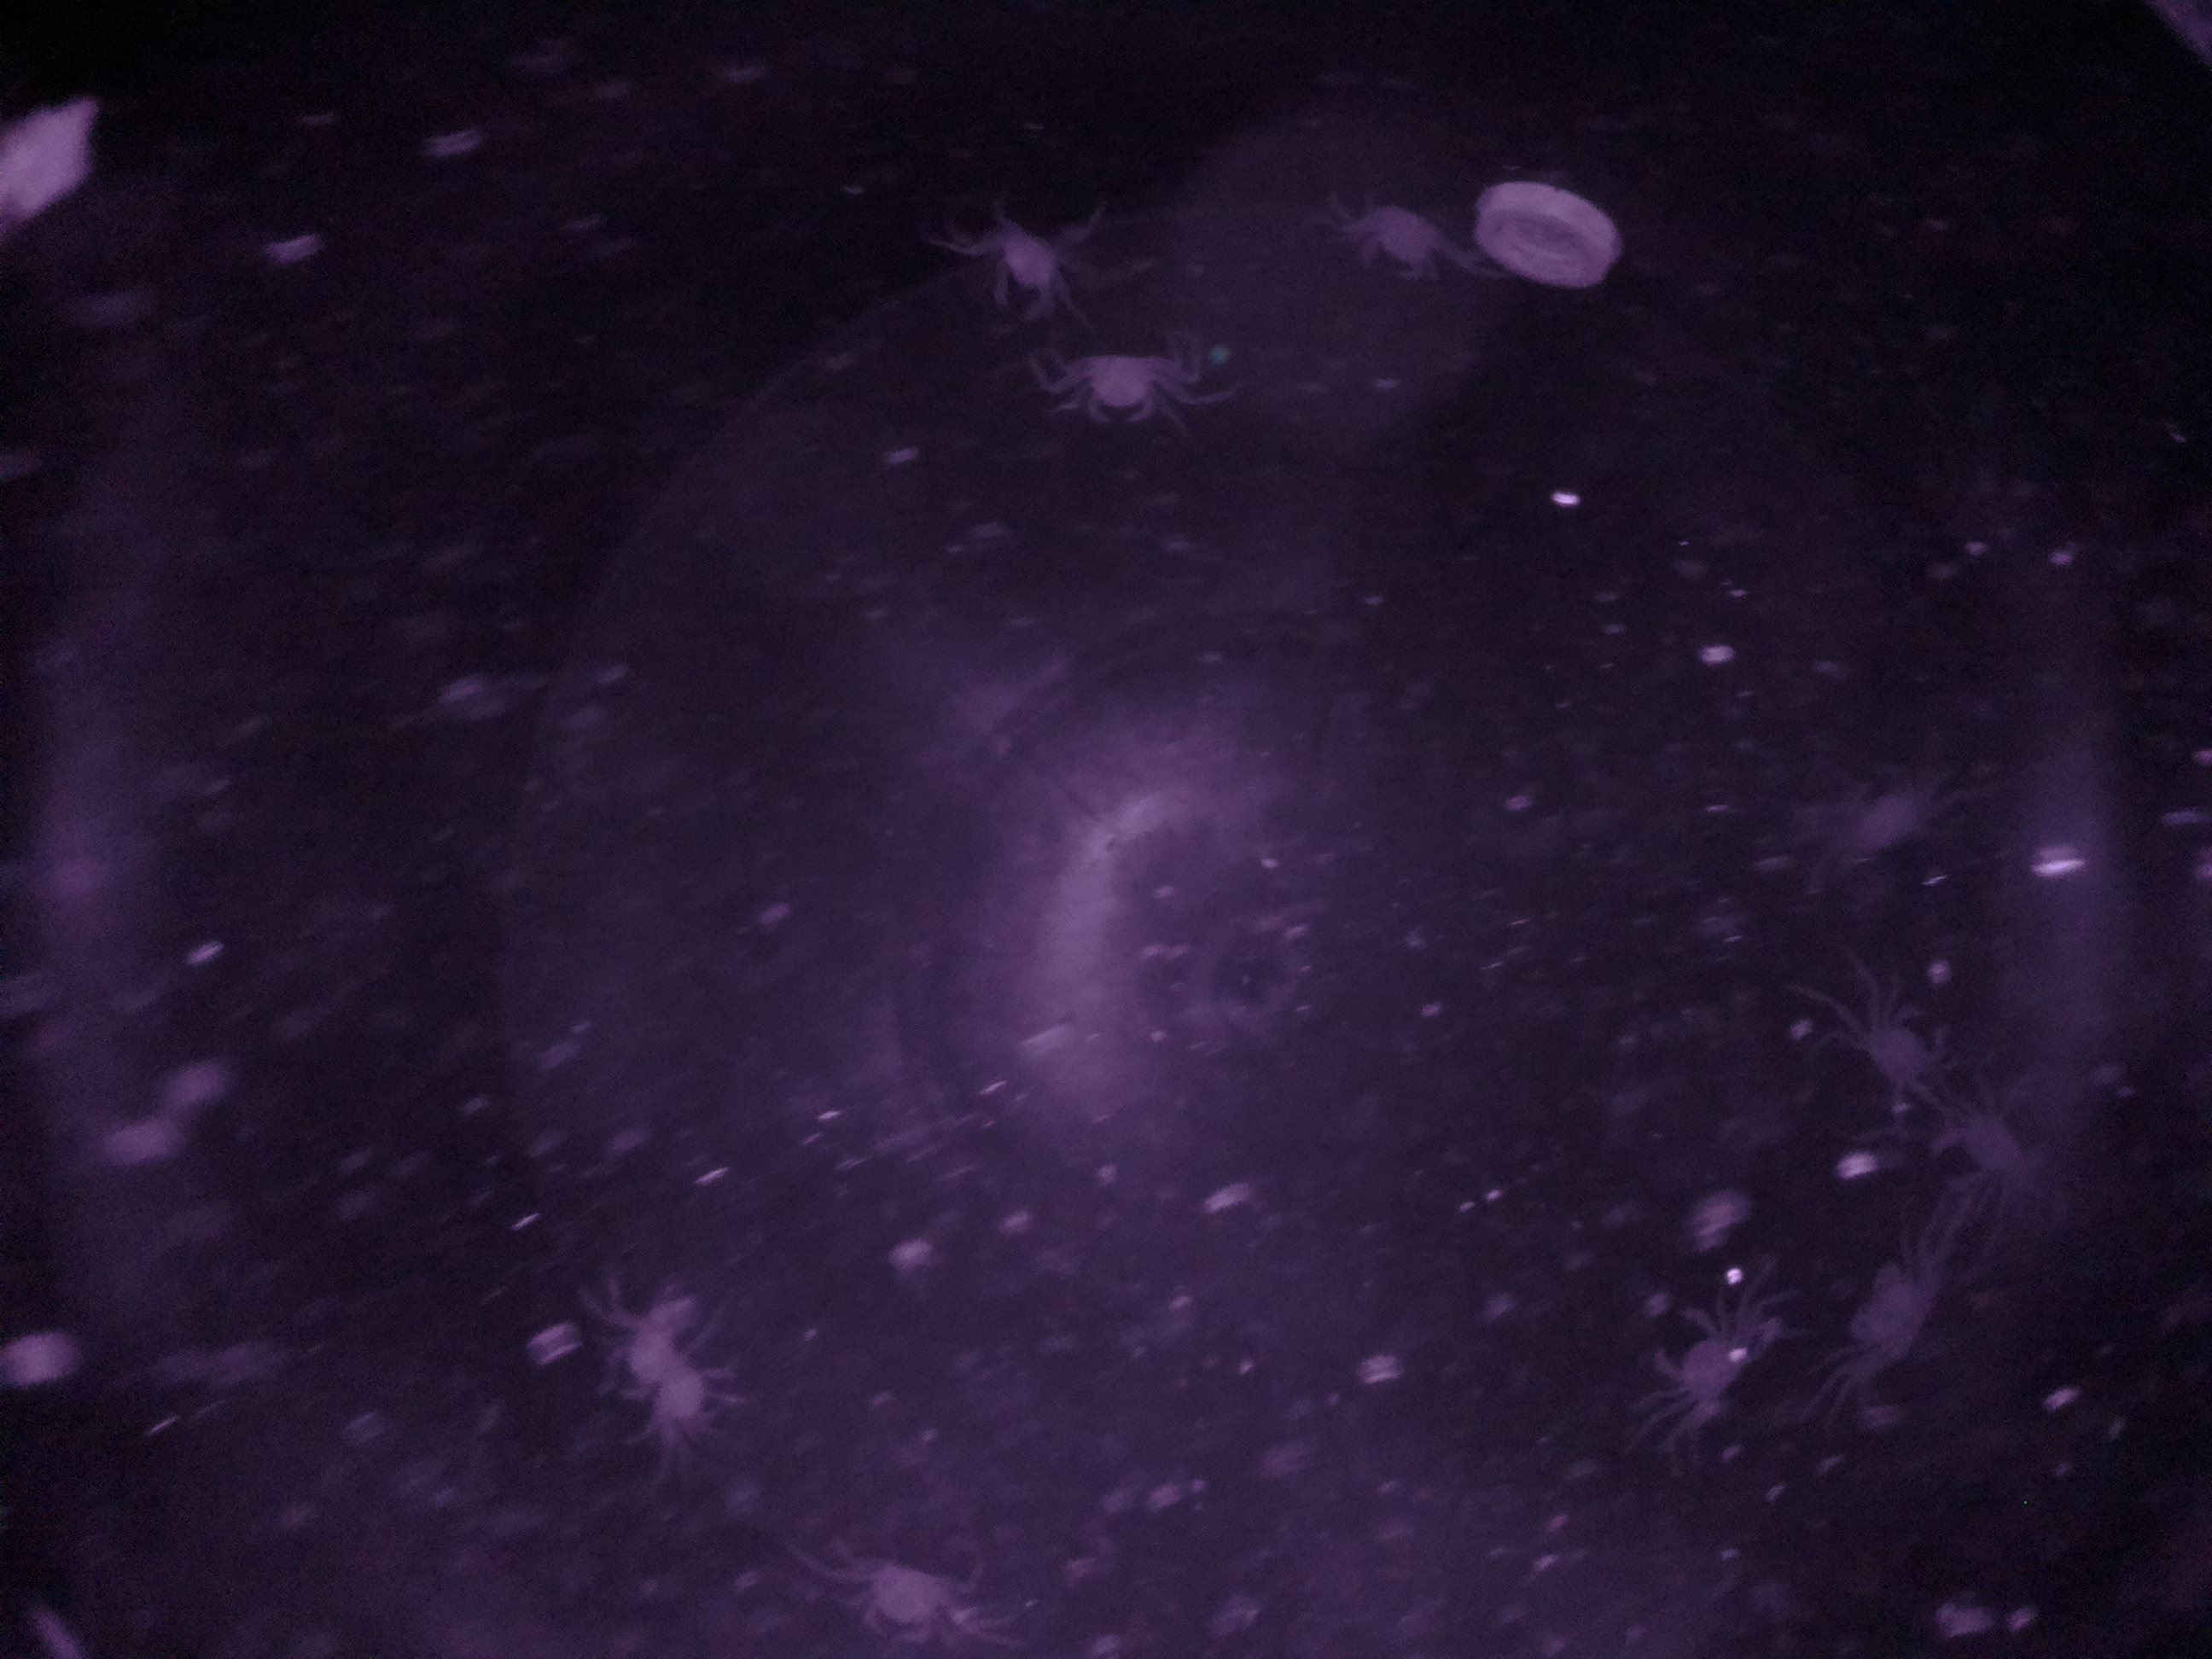Crab: (1641, 1291, 1756, 1419), (846, 1539, 968, 1657), (1343, 193, 1461, 298), (975, 207, 1075, 331), (1062, 335, 1179, 439)
